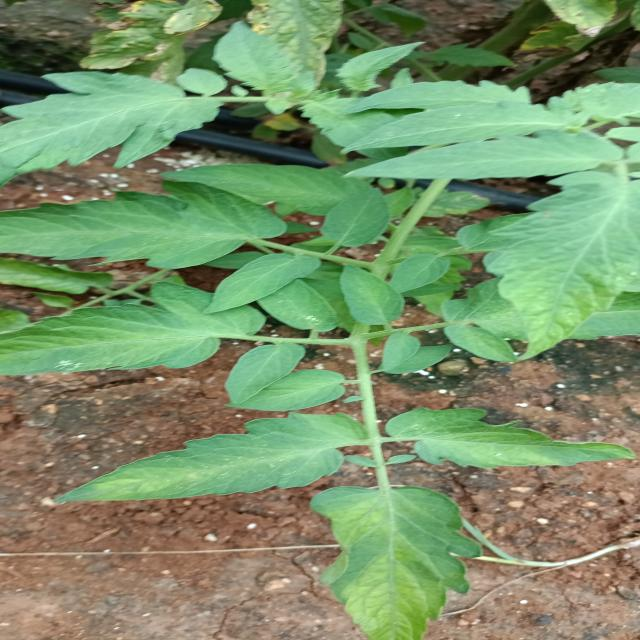Healthy Leaf: (31, 407, 362, 509), (311, 480, 492, 640), (397, 399, 640, 479), (339, 130, 632, 183)
